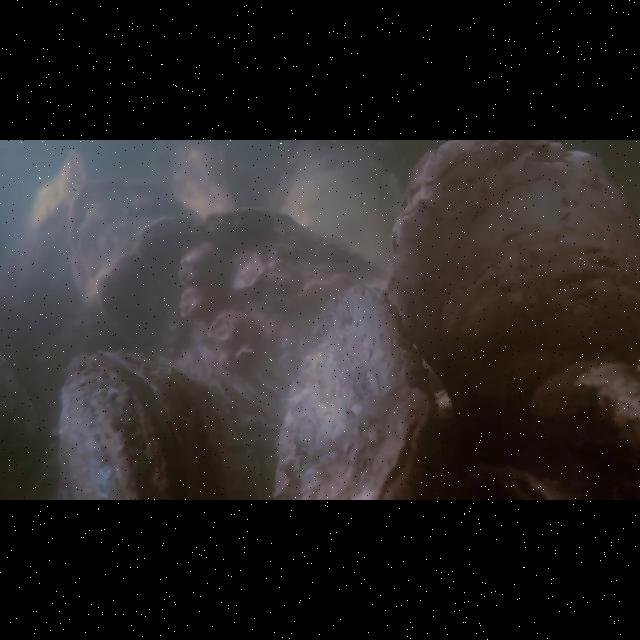Oyster-Closed: (96, 205, 442, 500), (386, 143, 638, 412), (271, 283, 432, 496), (266, 141, 399, 274), (66, 176, 200, 294), (165, 143, 245, 223), (473, 460, 566, 498)
Oyster-Open: (57, 349, 225, 498)
